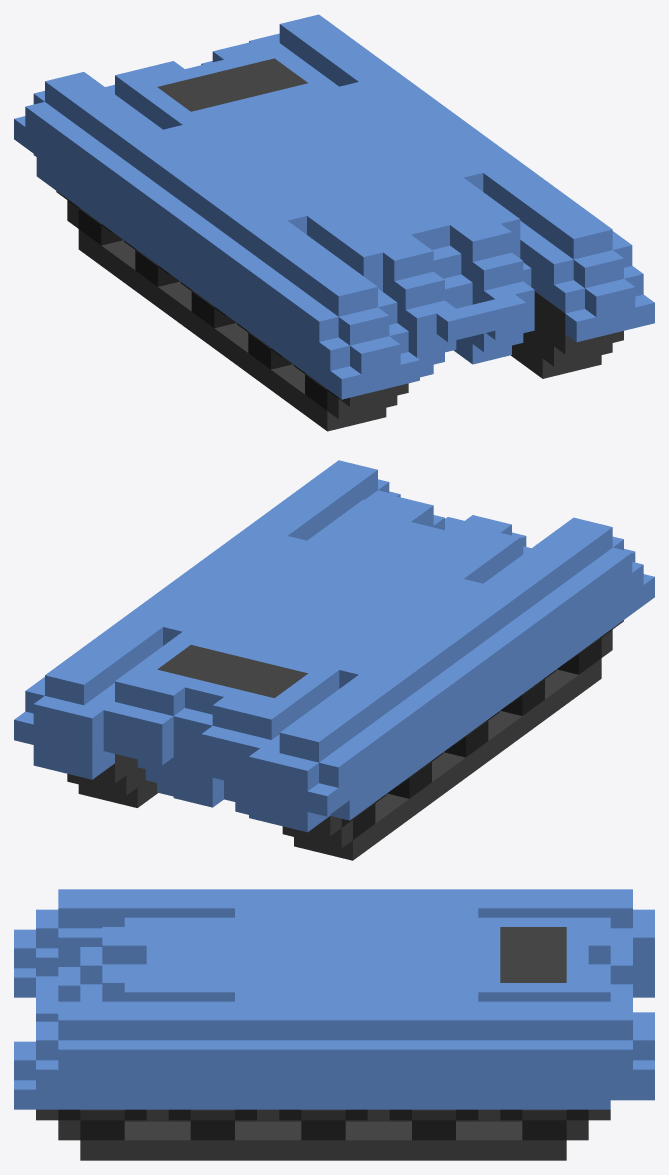
The model's file is LightTankBody.obj.
3 renders of one model, top to bottom at view 1: azimuth 30°, elevation 25°; view 2: azimuth 150°, elevation 25°; view 3: azimuth 270°, elevation 25°, orthographic. The views are drawn at different scales.
Bounding box in the file's own units: 1.6 × 0.7 × 2.9.
1 material, 1 textured.
